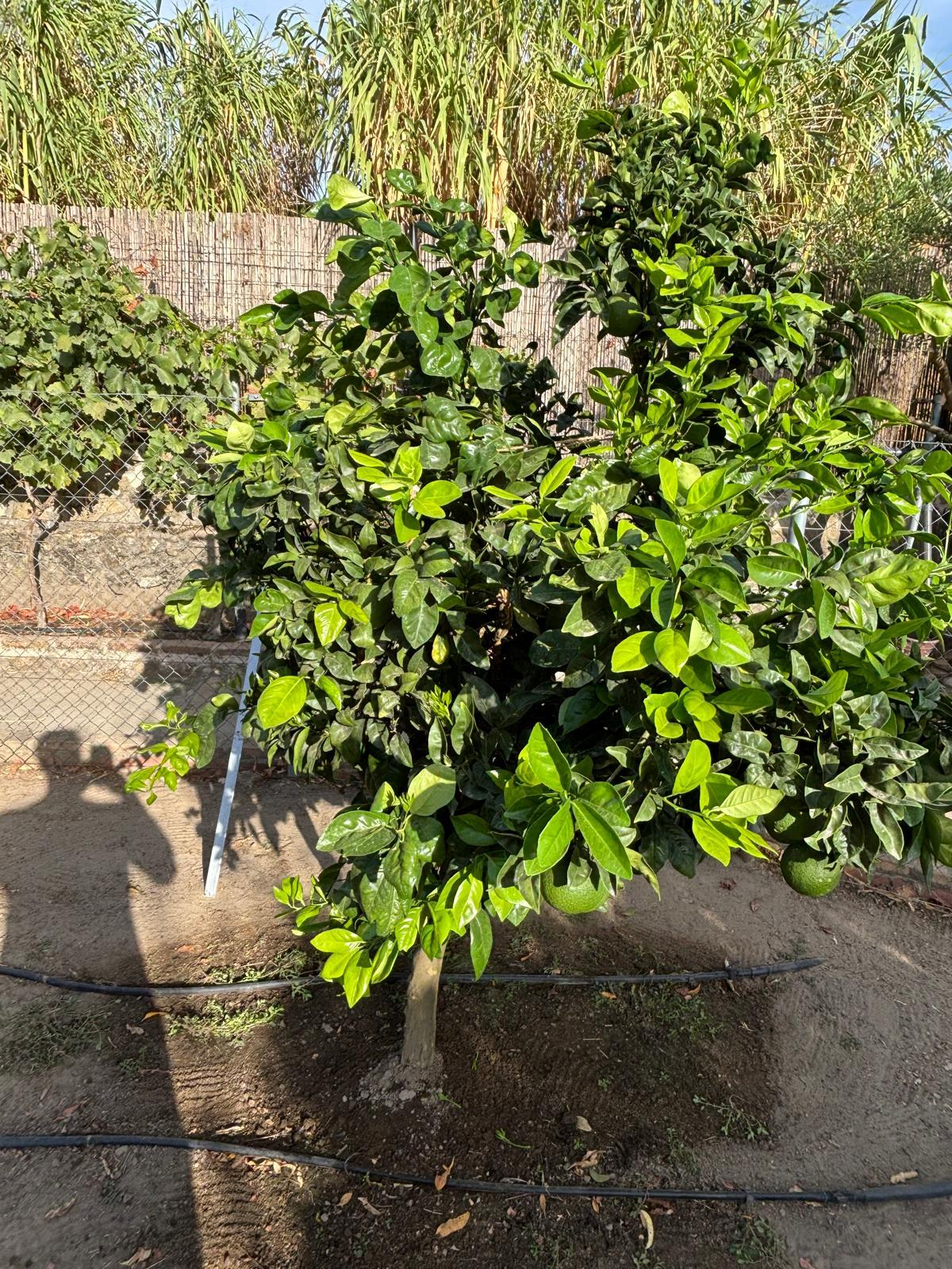naranjo: (180, 194, 939, 1147)
